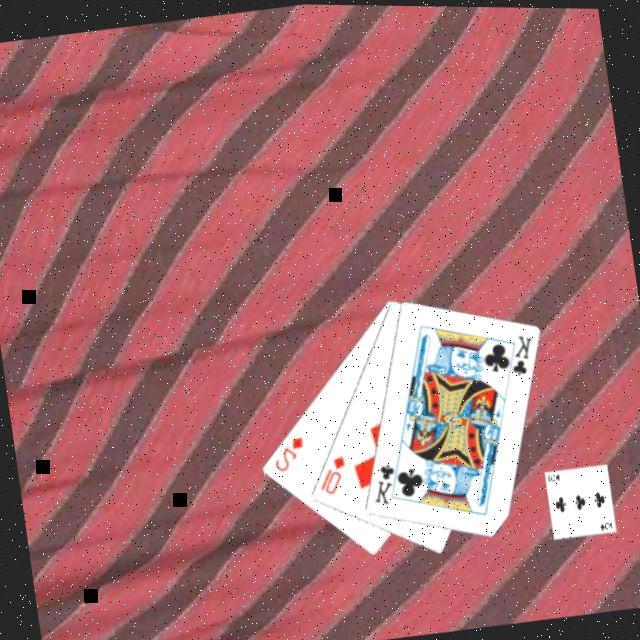10D: (315, 451, 355, 498)
2D: (269, 432, 312, 476)
KC: (500, 329, 542, 382), (368, 457, 410, 509)
